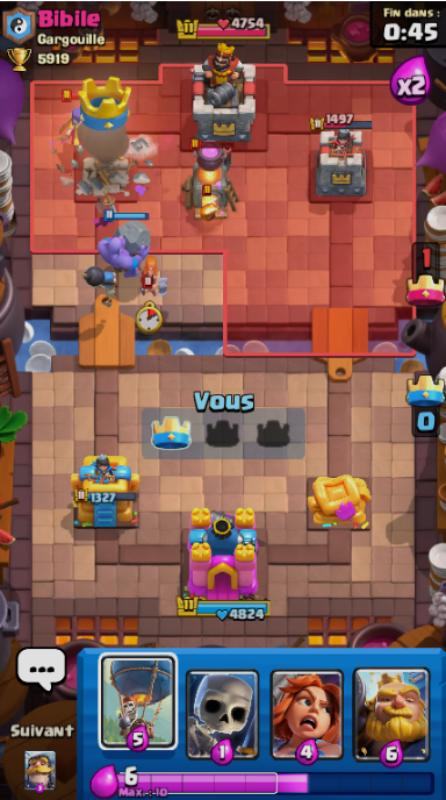valkyrie: (134, 248, 176, 308)
